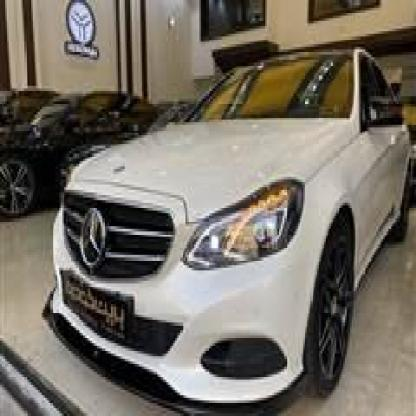Car: (34, 52, 416, 416), (0, 78, 161, 244)
